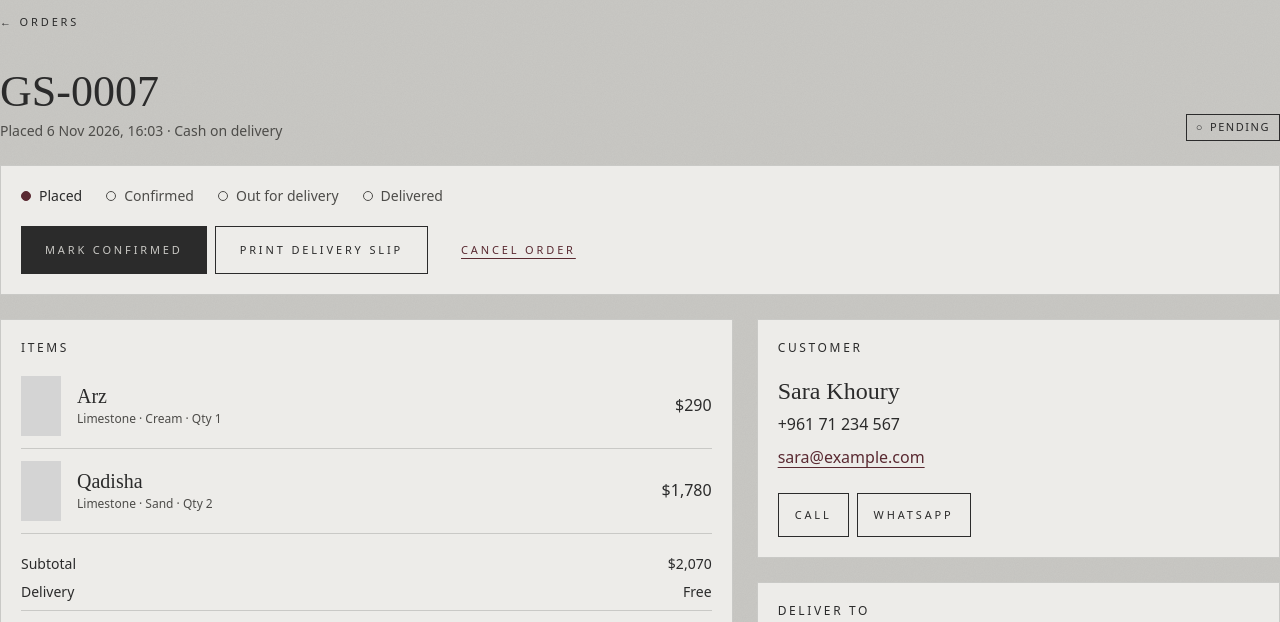
Test: one order in the studio › shows a cancel refused by the API word for word
The width and height of the screenshot is (1280, 622).
Click the button "Cancel order" at (518, 250), box left=436, top=226, right=601, bottom=274
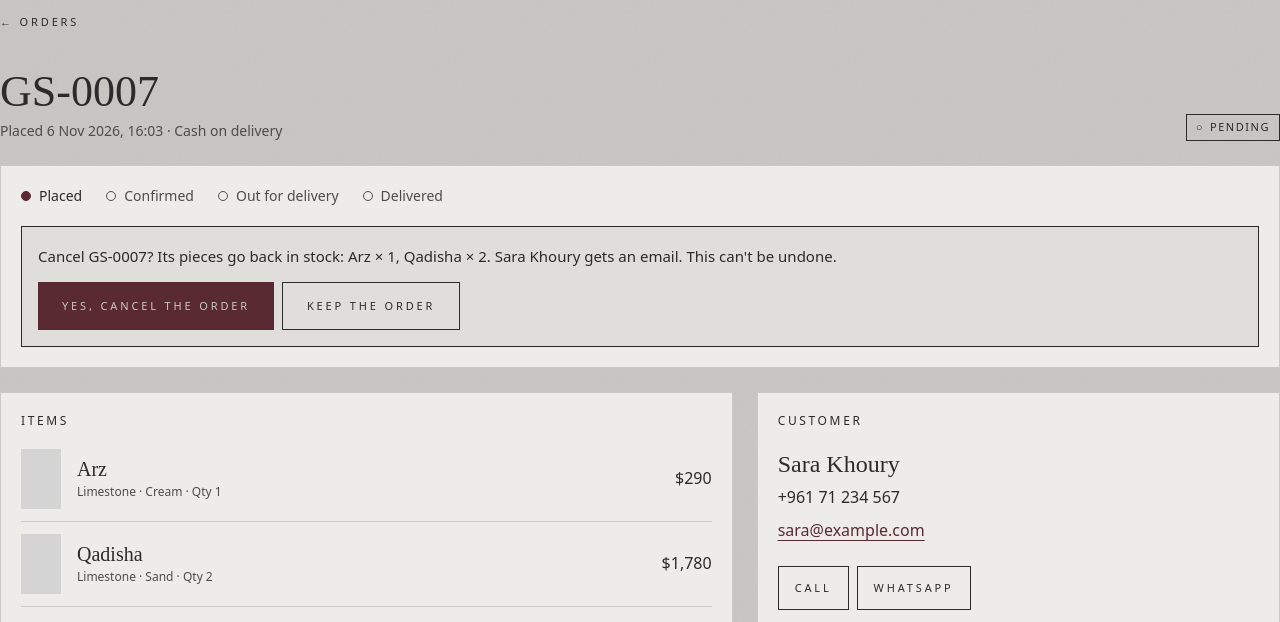
Click the button "Yes, cancel the order" at (156, 306), box left=38, top=282, right=274, bottom=330
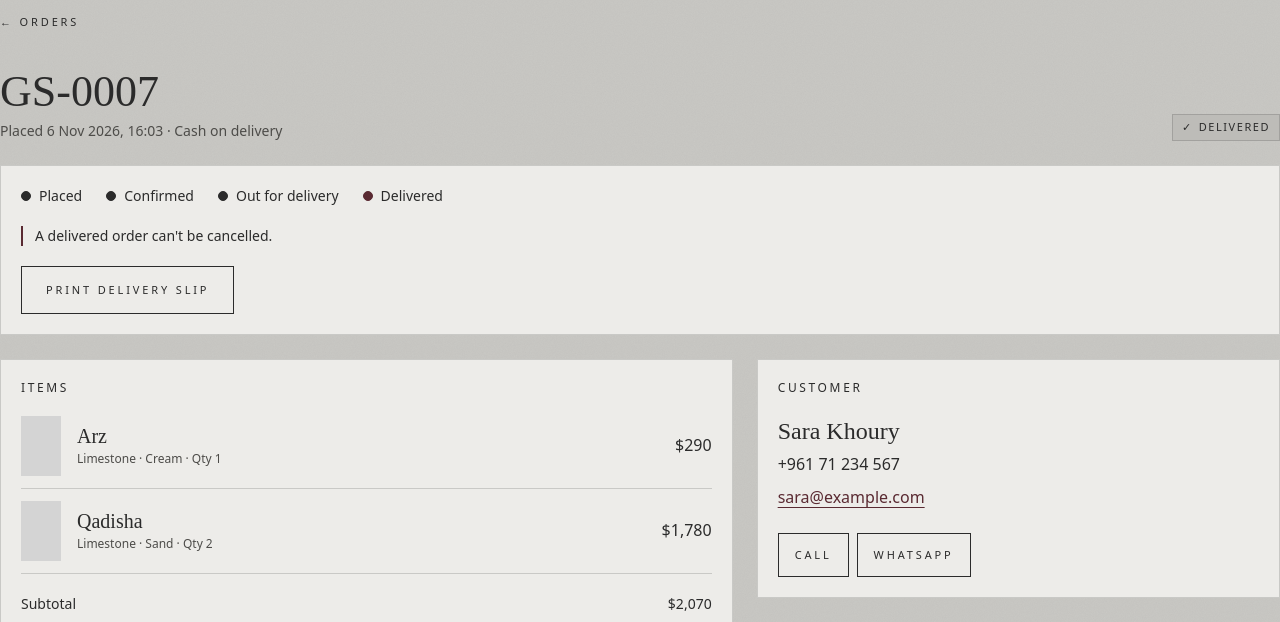
Check: the message reads "A delivered order can't be cancelled.", box left=35, top=226, right=272, bottom=245
